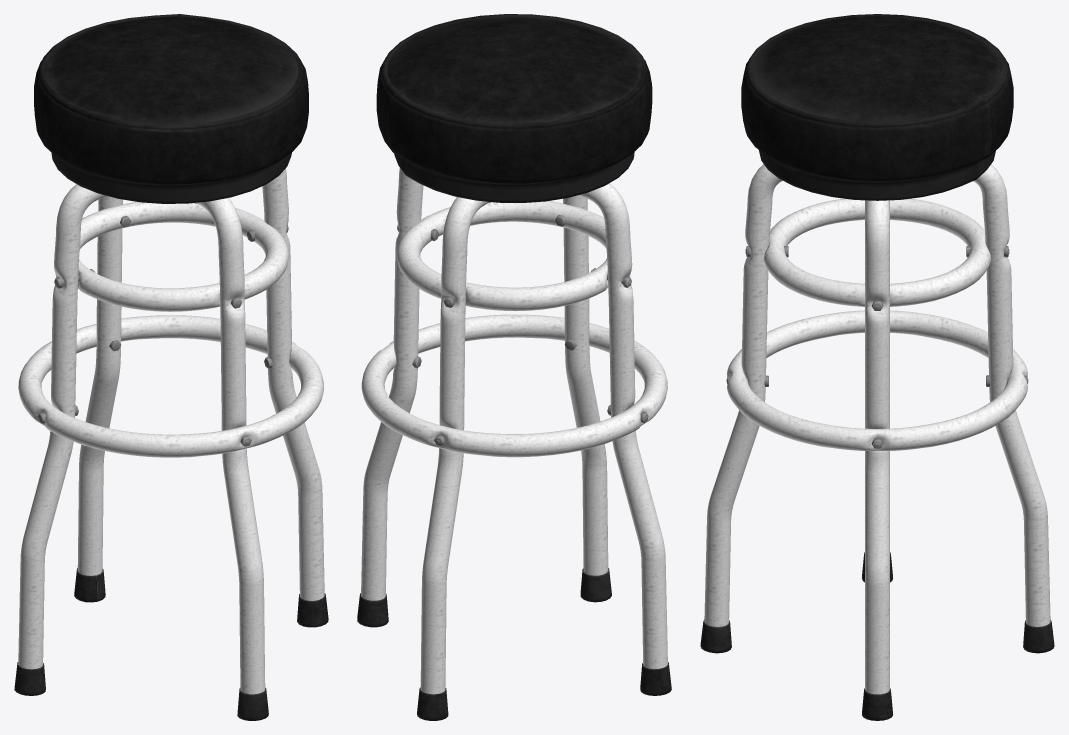
The model's file is bar_stool.glb.
3 views of the same model, side by side, from view 1: azimuth 30°, elevation 25°; view 2: azimuth 150°, elevation 25°; view 3: azimuth 270°, elevation 25° (orthographic).
Visible parts, largest first — view 1: pillow_lp, leg_02_lp, leg_01_lp, ring_02_lp, ring_01_lp, foot_04_lp, foot_01_lp, foot_02_lp, foot_03_lp; view 2: pillow_lp, leg_02_lp, leg_01_lp, ring_02_lp, ring_01_lp, foot_01_lp, foot_03_lp, foot_02_lp, foot_04_lp; view 3: pillow_lp, leg_01_lp, ring_02_lp, leg_02_lp, ring_01_lp, foot_02_lp, foot_04_lp, foot_01_lp.
Boxes of the visible parts, x1,y1,x2,y2 form: pillow_lp: (34,14,308,203); leg_02_lp: (18,168,324,669); leg_01_lp: (77,196,265,694); ring_02_lp: (18,315,323,457); ring_01_lp: (54,202,289,311); foot_04_lp: (237,688,268,720); foot_01_lp: (297,593,328,627); foot_02_lp: (74,568,105,602); foot_03_lp: (14,662,45,695); pillow_lp: (376,14,652,202); leg_02_lp: (361,167,667,669); leg_01_lp: (420,195,608,694); ring_02_lp: (361,314,667,457); ring_01_lp: (396,201,608,311); foot_01_lp: (357,593,388,627); foot_03_lp: (640,662,671,695); foot_02_lp: (417,687,448,720); foot_04_lp: (580,568,611,602); pillow_lp: (741,14,1013,200); leg_01_lp: (704,164,1050,626); ring_02_lp: (727,310,1027,450); leg_02_lp: (865,200,889,694); ring_01_lp: (763,198,991,306); foot_02_lp: (1023,619,1054,653); foot_04_lp: (700,619,731,653); foot_01_lp: (862,688,892,720).
Bounding box in the file's own units: 0.2329 × 0.4312 × 0.2329.
Materials: 1 (1 with a texture image).
